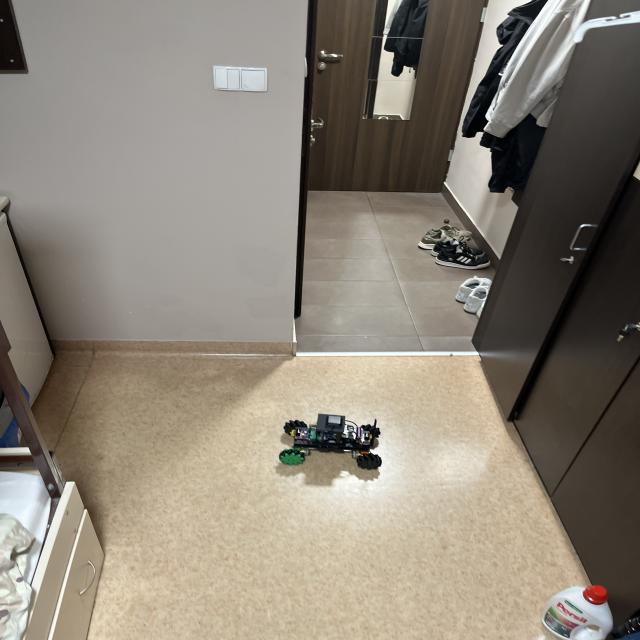robot: (279, 414, 382, 470)
